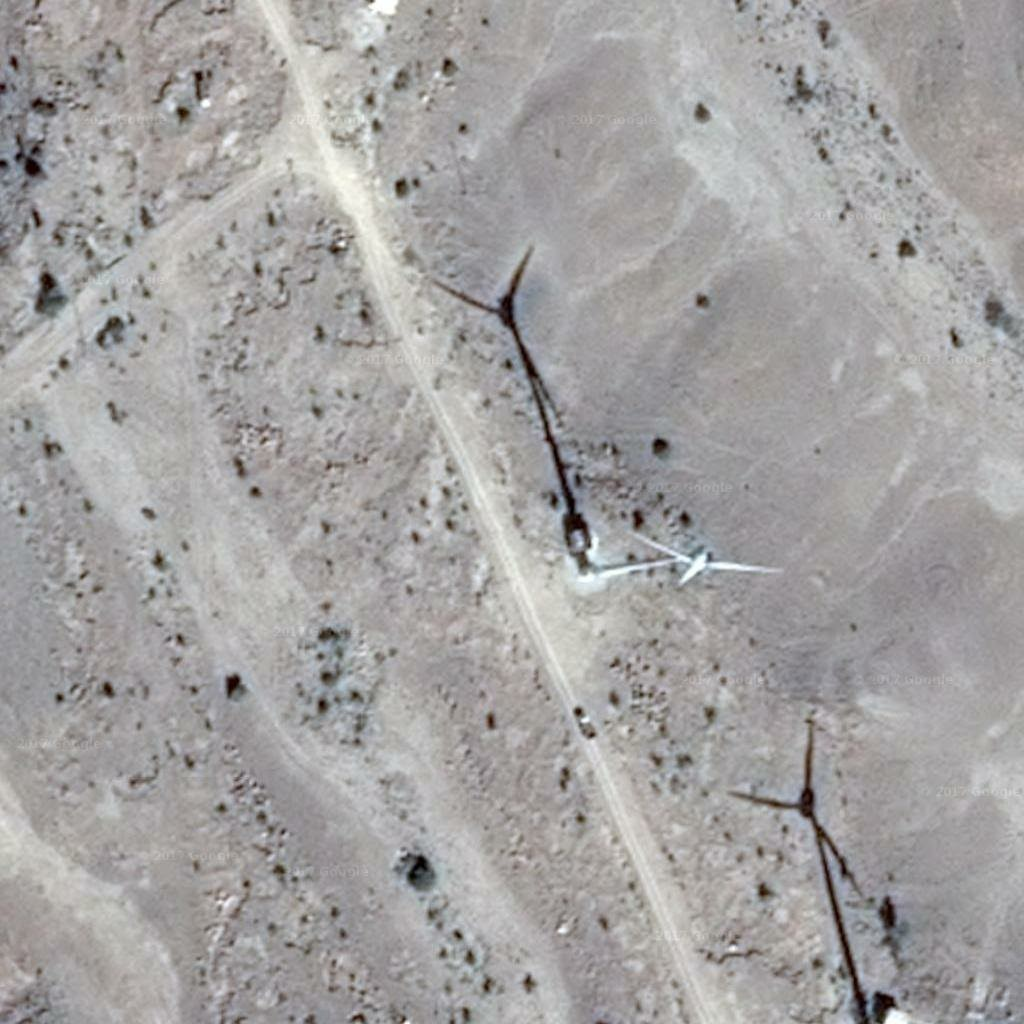Windmill: (412, 252, 620, 540)
